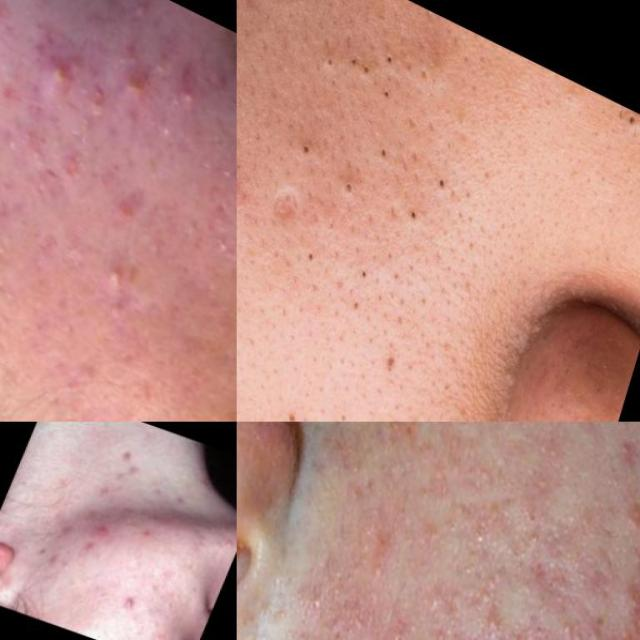acne_scars: (265, 181, 304, 244)
comedone: (311, 13, 413, 118), (88, 242, 145, 316), (466, 546, 520, 621), (162, 55, 218, 118), (426, 159, 475, 210), (298, 575, 342, 630), (545, 595, 593, 640), (290, 232, 332, 280), (335, 167, 371, 215), (287, 124, 321, 174), (399, 198, 437, 241), (236, 29, 262, 89), (0, 225, 20, 295), (371, 135, 404, 172), (610, 105, 640, 143), (237, 166, 253, 221)
papule: (86, 506, 125, 550), (50, 552, 91, 586), (115, 587, 145, 619)
pustule: (123, 65, 156, 117), (50, 54, 82, 102)
